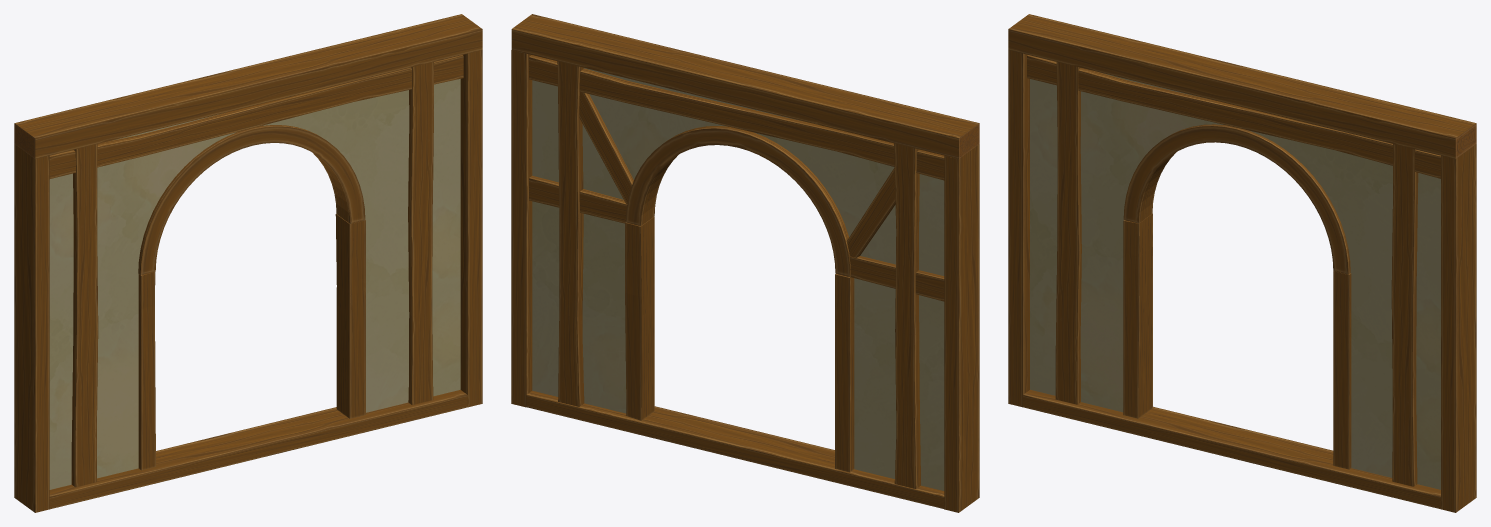
The model's file is SM_House_Wall_5x4_Door_E_03.fbx.
The picture shows the model from 3 angles, left to right: view 1: azimuth 30°, elevation 25°; view 2: azimuth 150°, elevation 25°; view 3: azimuth 330°, elevation 25°; orthographic projection.
Parts seen in each view (by area): view 1: SM_House_Wall_5x4_Door_E_03; view 2: SM_House_Wall_5x4_Door_E_03; view 3: SM_House_Wall_5x4_Door_E_03.
Part boxes in pixels (<box>): SM_House_Wall_5x4_Door_E_03: <box>14,14,482,512</box>; SM_House_Wall_5x4_Door_E_03: <box>511,14,979,512</box>; SM_House_Wall_5x4_Door_E_03: <box>1008,14,1476,512</box>.
Bounding box in the file's own units: 5 × 4 × 0.4024.
